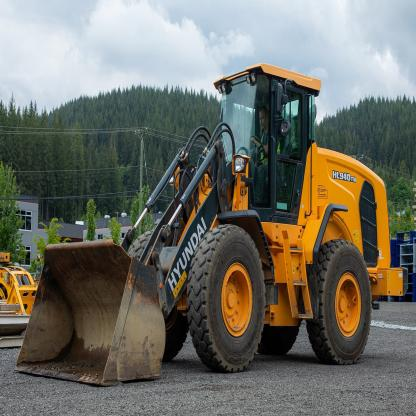bull_dozer/loader/grader: (31, 48, 408, 396)
